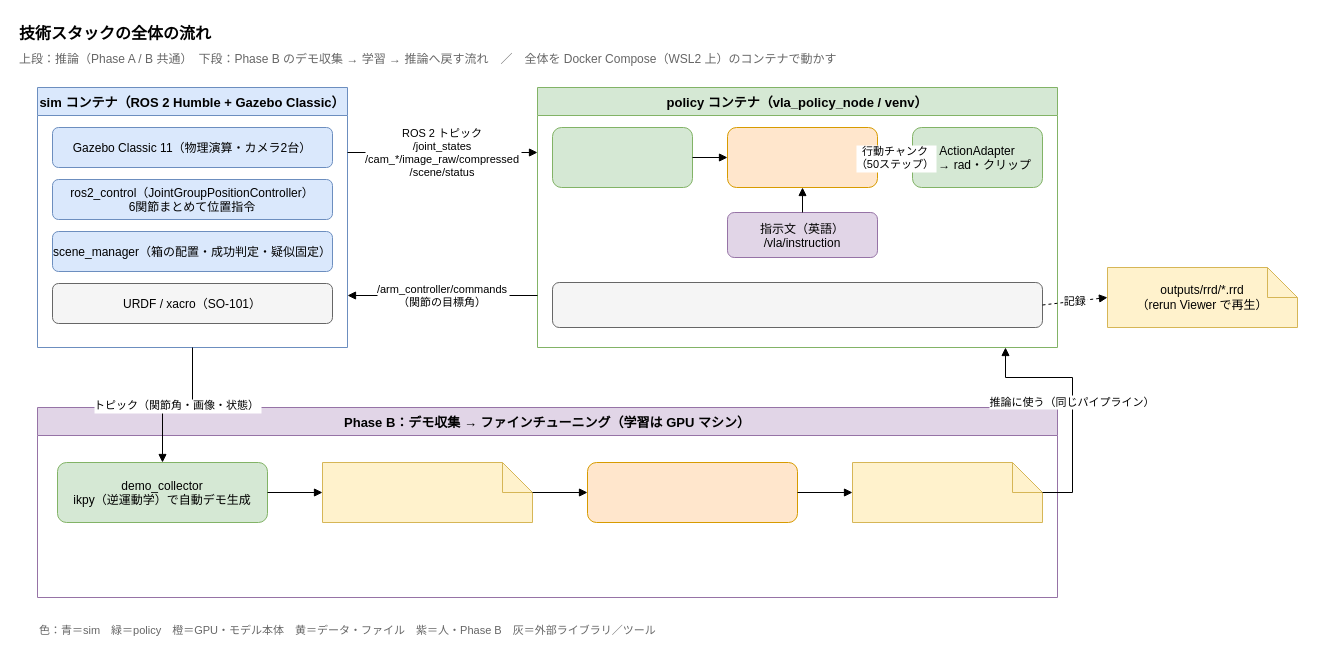
The diagram is 1334 pixels wide and 654 high, and some of its shapes have lost their labels. The shapes that lost their labels are listed below. From the top down, each one's centre as x and y in pixels, then its label:
the point at 622,157: ObsAdapter JPEG デコード（PIL） rad → 度
the point at 802,157: PolicyRunner LeRobot 0.4.0 の SmolVLA （PyTorch / transformers）
the point at 797,305: rerun SDK（Recorder / RerunLogger） 入力画像・関節角・予測チャンク・箱の位置を記録
the point at 427,492: LeRobotDataset 画像（動画）・状態・行動・指示文
the point at 692,492: lerobot-train smolvla_base から ファインチューニング （PyTorch cu126 / PyAV）
the point at 947,492: 学習済みチェックポイント （model_path を差し替え）
